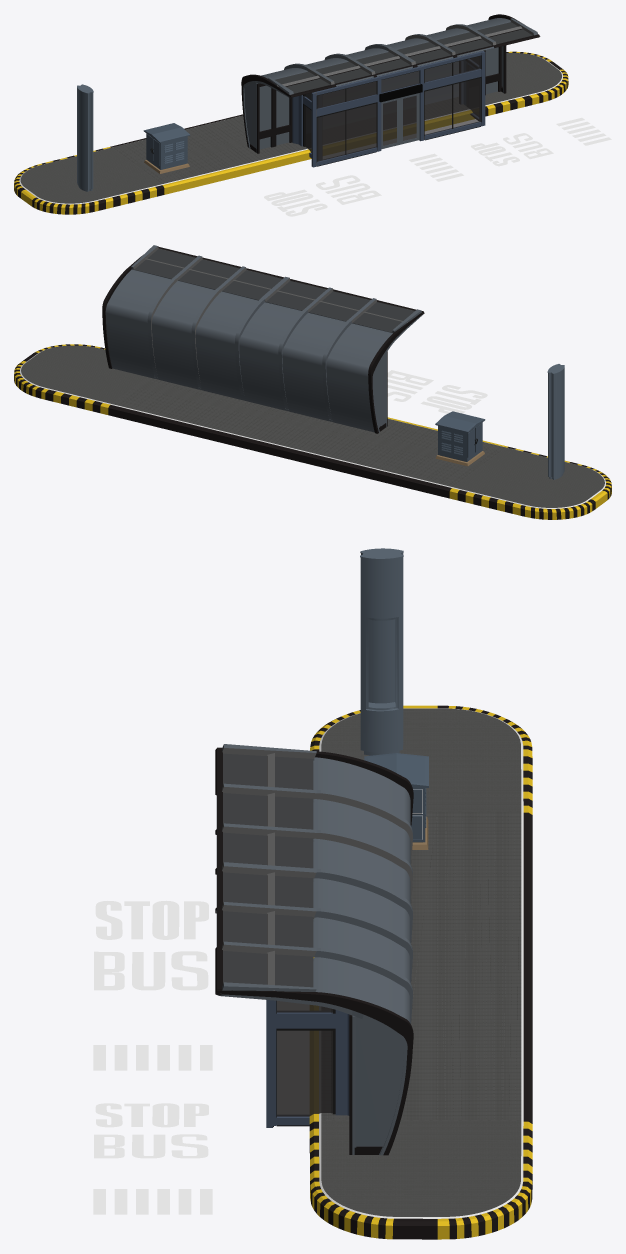
File: bus-station.glb
3 renders of one model, top to bottom at view 1: azimuth 30°, elevation 25°; view 2: azimuth 150°, elevation 25°; view 3: azimuth 270°, elevation 25°, orthographic. The views are drawn at different scales.
Parts seen in each view (by area): view 1: Plane.002, Plane.008, Plane.007, Plane.044, Plane.023, Text.005, Text.003, Text.004, Text.006; view 2: Plane.008, Plane.002, Plane.044, Plane.023, Text.003, Text.004; view 3: Plane.002, Plane.008, Plane.023, Text.005, Text.003, Text.004, Plane.044, Text.006.
Boxes of the visible parts, x1,y1,x2,y2 form: Plane.002: [14, 51, 568, 214]; Plane.008: [241, 14, 540, 158]; Plane.007: [311, 51, 485, 167]; Plane.044: [143, 123, 190, 173]; Plane.023: [77, 84, 93, 191]; Text.005: [409, 117, 611, 181]; Text.003: [264, 189, 327, 216]; Text.004: [316, 175, 381, 204]; Text.006: [503, 133, 553, 159]; Plane.008: [102, 245, 424, 433]; Plane.002: [14, 344, 611, 519]; Plane.044: [435, 411, 485, 466]; Plane.023: [547, 364, 564, 479]; Text.003: [420, 385, 487, 413]; Text.004: [387, 370, 433, 401]; Plane.002: [309, 705, 532, 1239]; Plane.008: [215, 744, 413, 1155]; Plane.023: [360, 548, 403, 755]; Text.005: [93, 1045, 212, 1214]; Text.003: [95, 900, 208, 939]; Text.004: [94, 951, 208, 990]; Plane.044: [364, 753, 428, 849]; Text.006: [94, 1134, 208, 1158].
Size of the model in its own units: 23.23 by 4.53 by 8.31.
16 materials, 1 textured.
